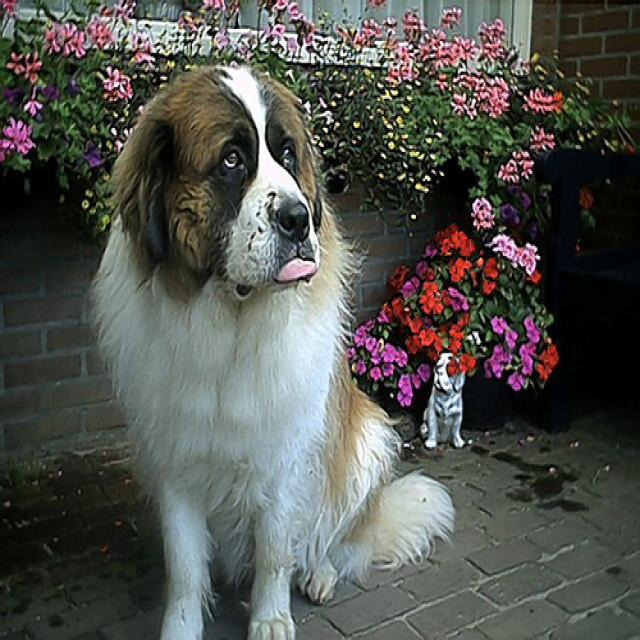dog-saint_bernard: (84, 58, 461, 637)
